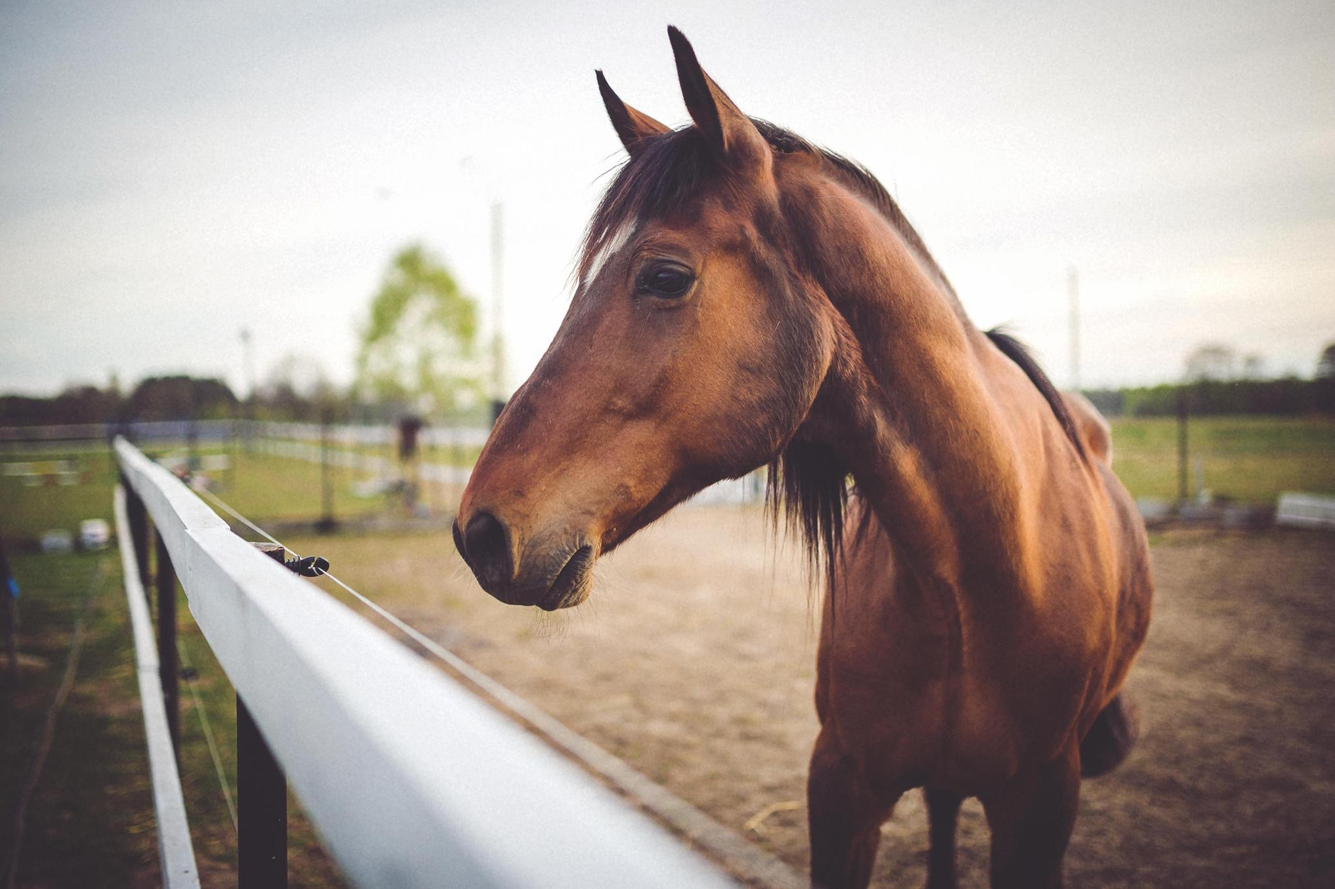horse: (432, 0, 1171, 889)
